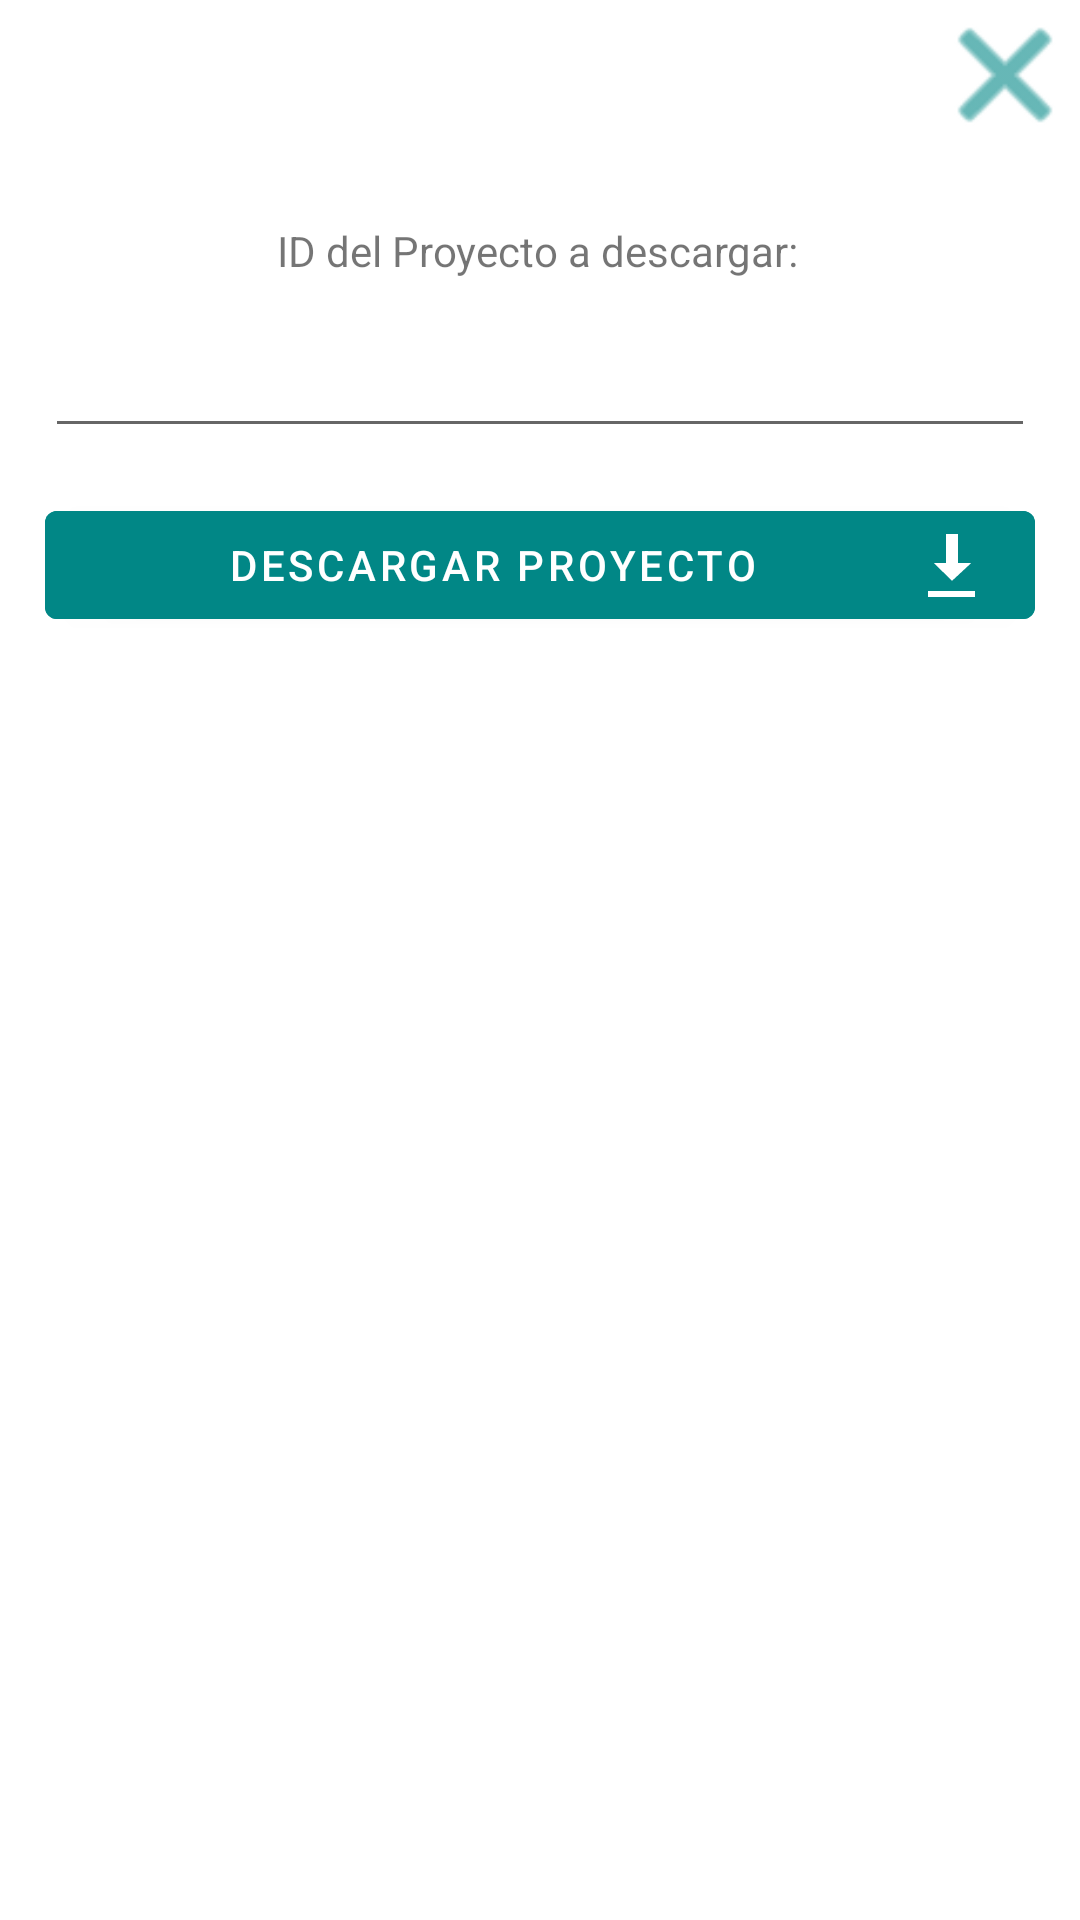

Screen size 1080 × 1920. Icon name, then its center in pixels as point (x, y):
close clear cancel: point (1005, 75)
